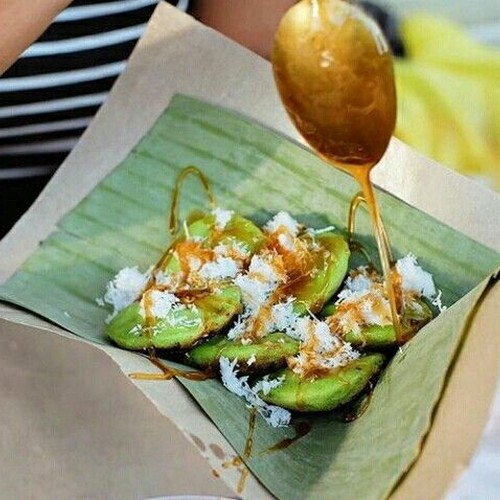laklak: (149, 194, 352, 406)
